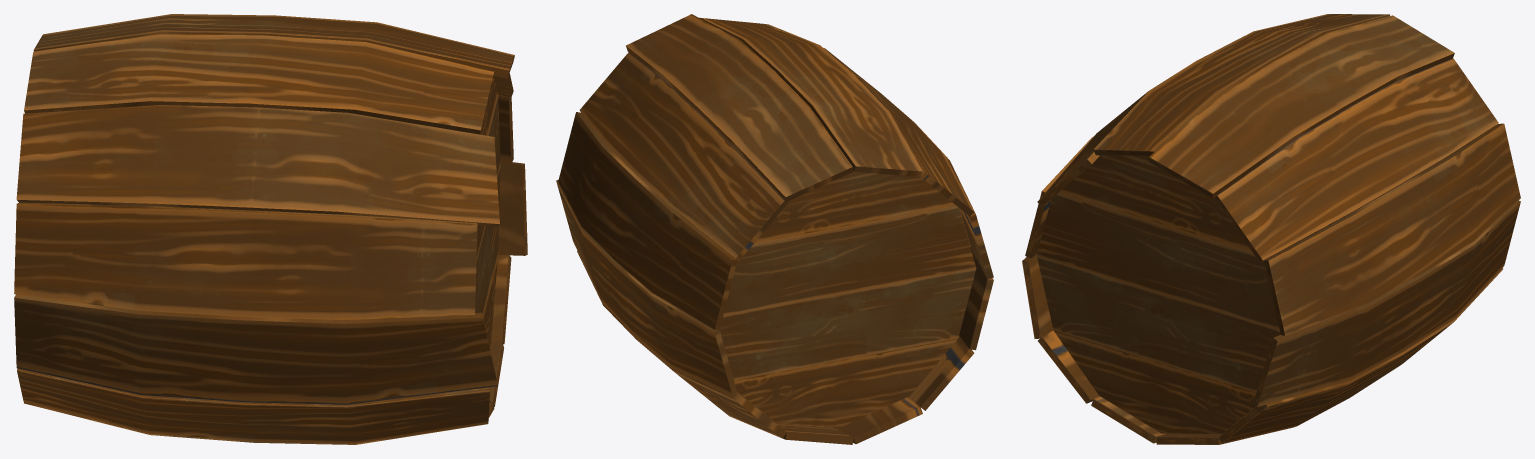
3 views of the same model, side by side, from view 1: azimuth 30°, elevation 25°; view 2: azimuth 150°, elevation 25°; view 3: azimuth 270°, elevation 25° (orthographic). The views are drawn at different scales.
Visible parts, largest first — view 1: Cylinder.064; view 2: Cylinder.064; view 3: Cylinder.064.
Boxes of the visible parts, x1,y1,x2,y2 form: Cylinder.064: (14, 14, 527, 444); Cylinder.064: (556, 14, 993, 444); Cylinder.064: (1022, 14, 1520, 444).
Size of the model in its own units: 187 by 133 by 179.
Materials: 1 (1 with a texture image).
